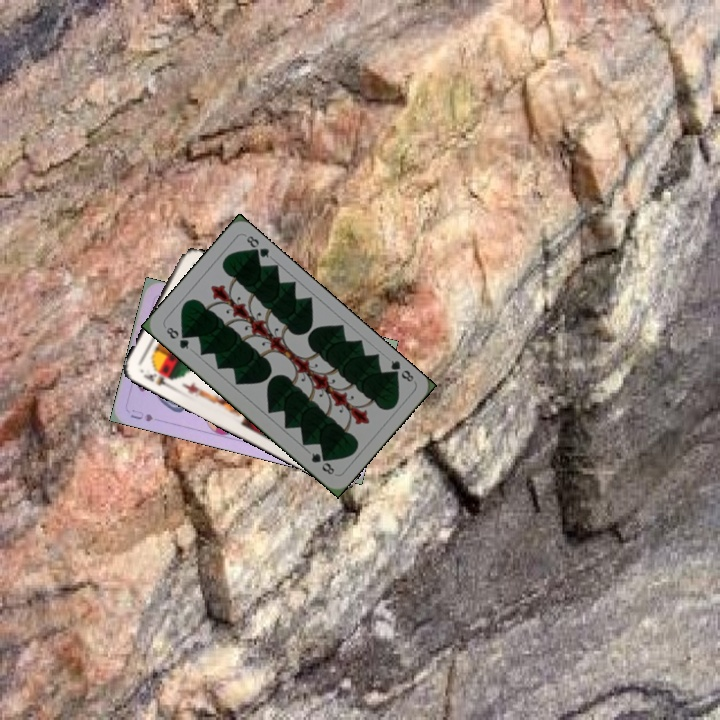G8: (384, 356, 416, 385), (162, 323, 192, 352)
SK: (137, 365, 175, 390)
SU: (126, 406, 155, 424)
